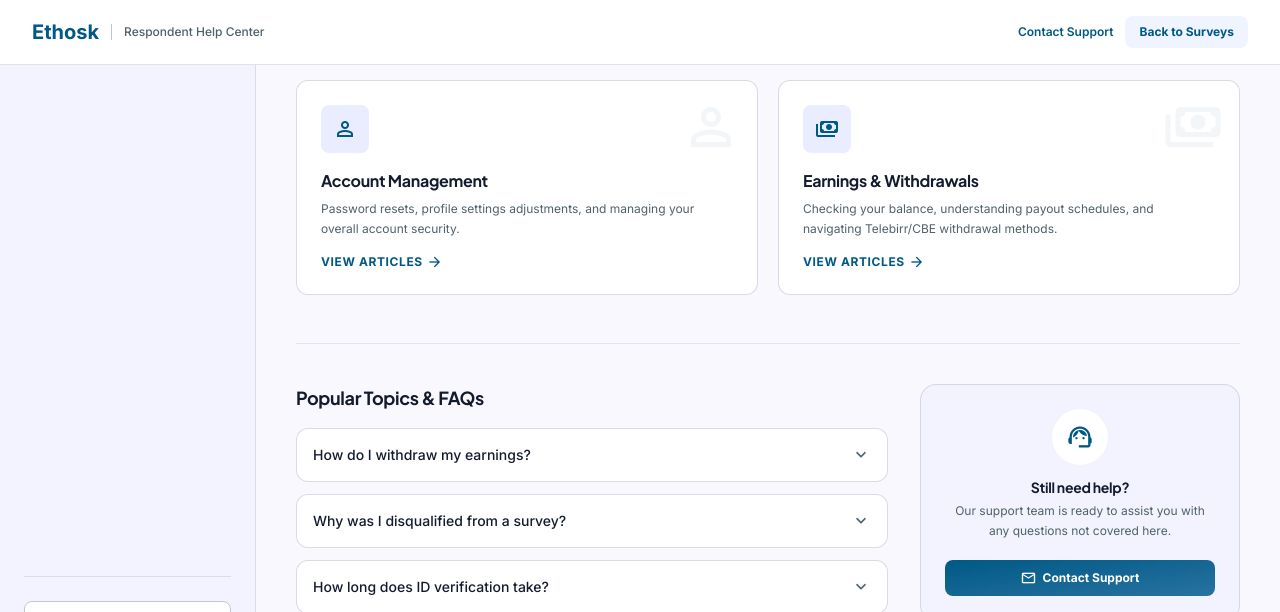
Ethosk - Respondent Help Center: Landing (Stitch Screen 6fd6d3072b46471196dc79ef2c15e4a4) › expands FAQ answer when clicking topic
(page scrolled)
Click the button "How do I withdraw my earnings?": (422, 454) [297,429,887,481]
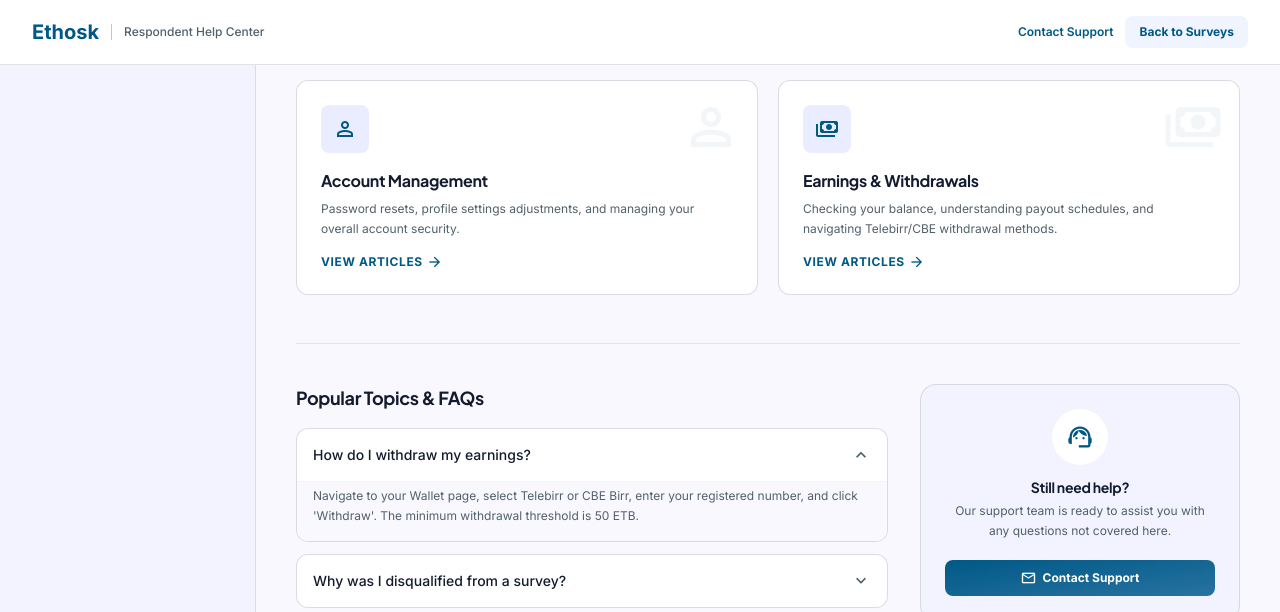
expect the text "Navigate to your Wallet page, select Telebirr or CBE Birr" is shown: met, box [313,488,858,522]
